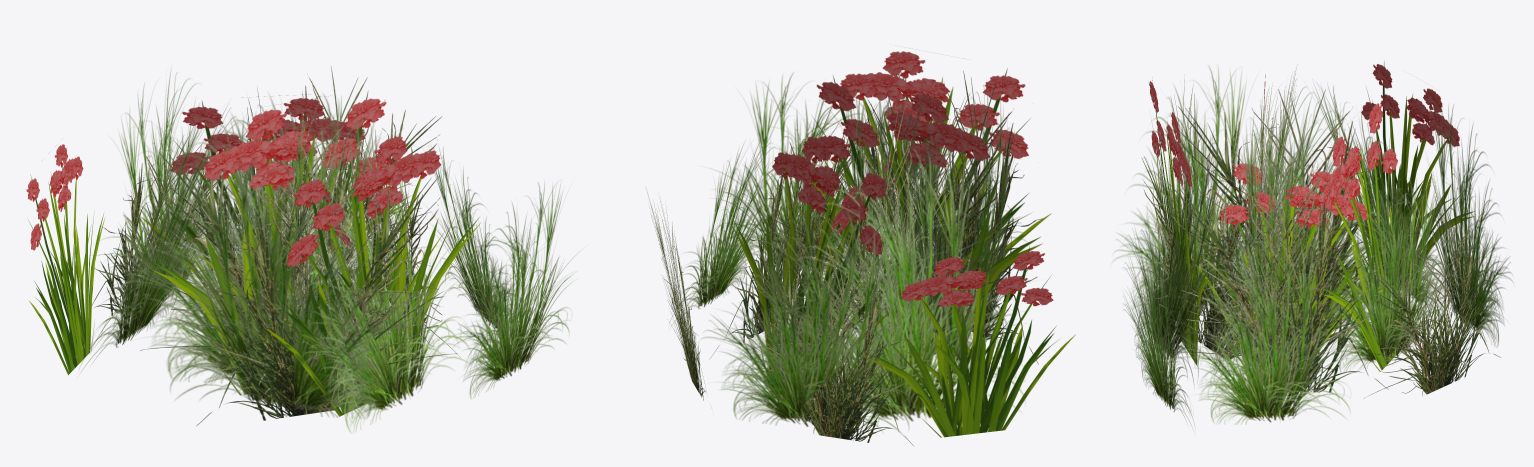
Rendered from grass_patch.glb.
3 renders of one model, left to right at view 1: azimuth 30°, elevation 25°; view 2: azimuth 150°, elevation 25°; view 3: azimuth 270°, elevation 25°, orthographic. The views are drawn at different scales.
Parts seen in each view (by area): view 1: ST_GrassPatch; view 2: ST_GrassPatch; view 3: ST_GrassPatch.
Boxes of the visible parts, x1,y1,x2,y2 form: ST_GrassPatch: (26, 66, 577, 433); ST_GrassPatch: (646, 51, 1075, 445); ST_GrassPatch: (1112, 61, 1513, 430).
Bounding box in the file's own units: 5.78 × 3.43 × 4.54.
3 materials, 3 textured.
